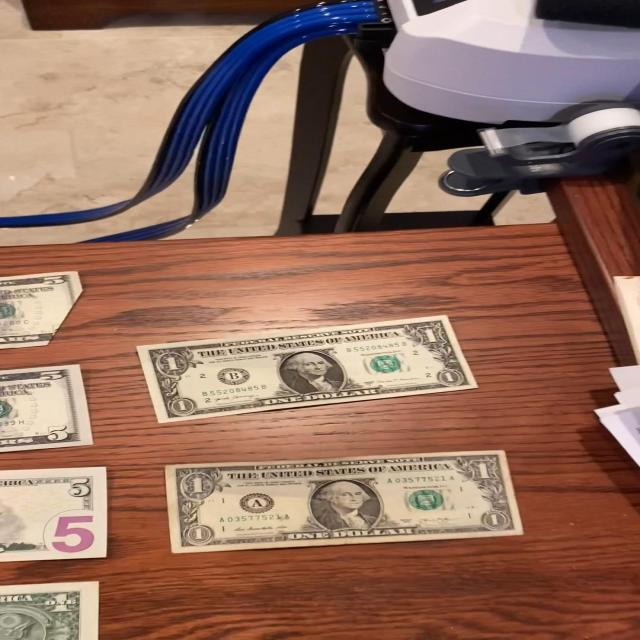1-Front: (133, 313, 483, 427), (163, 447, 522, 558)
5-Back: (0, 466, 112, 561)
5-Front: (0, 361, 94, 455), (0, 265, 88, 353)
